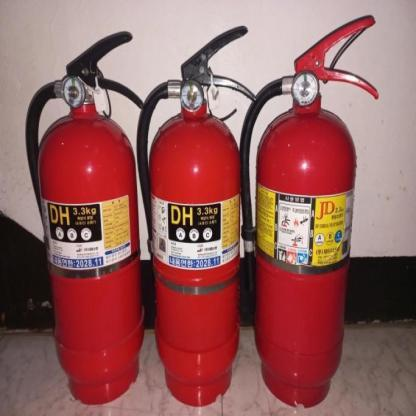Fire Extinguisher: (260, 11, 384, 414), (28, 36, 148, 413), (152, 28, 244, 406)
